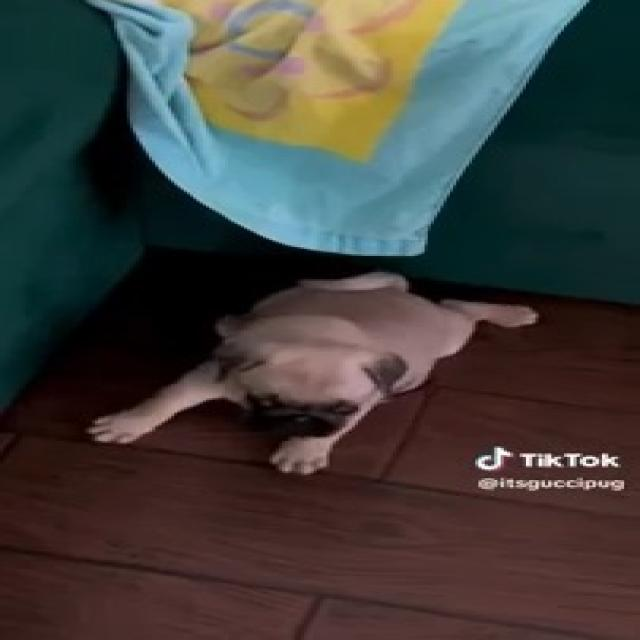dogs: (90, 254, 557, 476)
